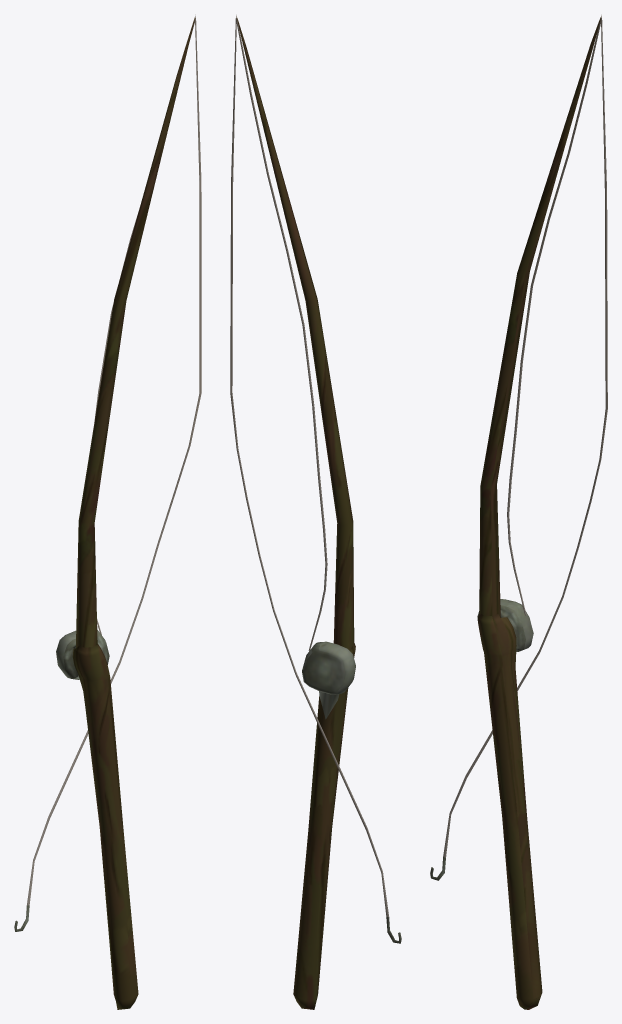
Rendered from M_CanneAPeche.fbx.
3 renders of one model, left to right at view 1: azimuth 30°, elevation 25°; view 2: azimuth 150°, elevation 25°; view 3: azimuth 330°, elevation 25°, orthographic. The views are drawn at different scales.
Visible parts, largest first — view 1: canneapeche; view 2: canneapeche; view 3: canneapeche.
Part boxes in pixels (x1=…): canneapeche: x1=14, y1=16, x2=201, y2=1009; canneapeche: x1=230, y1=15, x2=401, y2=1009; canneapeche: x1=430, y1=15, x2=607, y2=1009.
Bounding box in the file's own units: 38.14 × 199 × 8.27.
